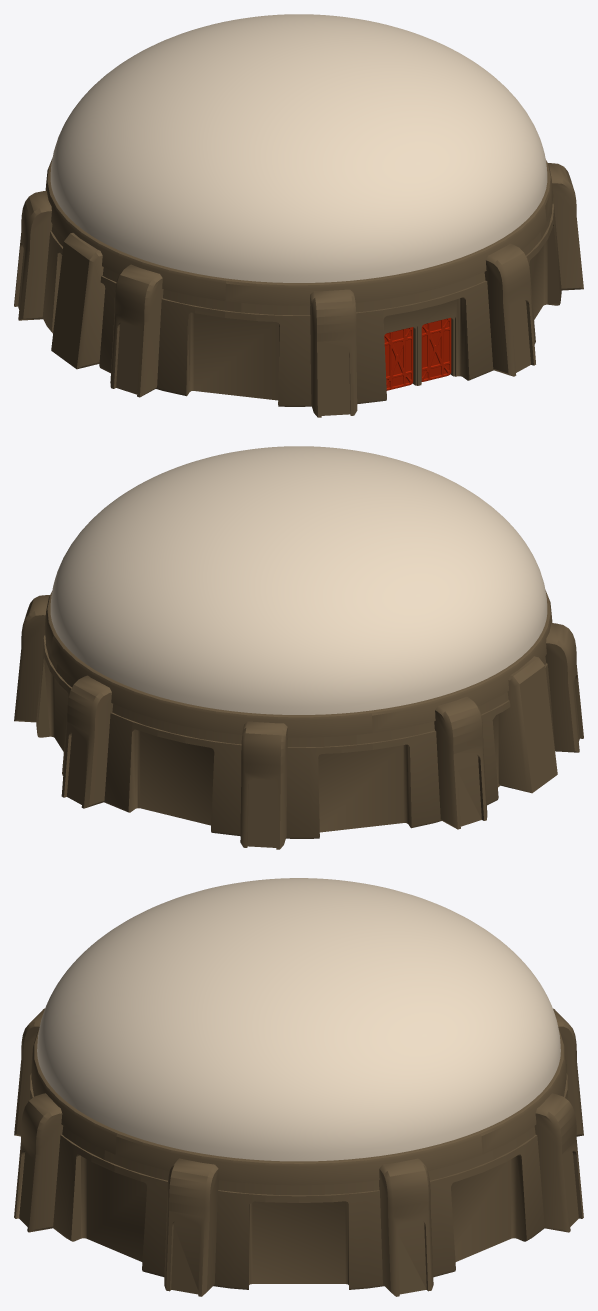
The model's file is Edificio3.FBX.
3 views of the same model, one above another, from view 1: azimuth 30°, elevation 25°; view 2: azimuth 150°, elevation 25°; view 3: azimuth 270°, elevation 25° (orthographic). The views are drawn at different scales.
Visible parts, largest first — view 1: Sphere06, ChamferCyl, Line64, Line66, Line08, Line68, Line78, Line70, Rectangle5, Rectangle3, Rectangle7, Rectangle0; view 2: Sphere06, ChamferCyl, Line08, Line76, Line78, Line74, Line64, Line72; view 3: Sphere06, ChamferCyl, Line70, Line72, Line74, Line68, Line76, Line66.
Boxes of the visible parts, <box> form: Sphere06: <box>50,14,547,282</box>; ChamferCyl: <box>42,158,561,406</box>; Line64: <box>110,264,163,397</box>; Line66: <box>310,289,357,417</box>; Line08: <box>51,233,105,369</box>; Line68: <box>484,243,535,376</box>; Line78: <box>14,191,52,320</box>; Line70: <box>548,163,583,290</box>; Rectangle5: <box>421,317,451,381</box>; Rectangle3: <box>384,327,413,390</box>; Rectangle7: <box>422,319,451,378</box>; Rectangle0: <box>384,328,412,387</box>; Sphere06: <box>50,446,547,714</box>; ChamferCyl: <box>36,590,555,838</box>; Line08: <box>498,656,557,793</box>; Line76: <box>240,721,287,849</box>; Line78: <box>434,696,487,829</box>; Line74: <box>61,675,112,808</box>; Line64: <box>545,623,583,752</box>; Line72: <box>14,595,49,722</box>; Sphere06: <box>37,878,560,1161</box>; ChamferCyl: <box>30,1030,567,1289</box>; Line70: <box>164,1158,218,1296</box>; Line72: <box>379,1158,433,1296</box>; Line74: <box>534,1093,583,1232</box>; Line68: <box>14,1093,63,1232</box>; Line76: <box>553,1008,583,1136</box>; Line66: <box>14,1008,44,1136</box>.
Size of what is drawn, in the model's own units: 3513 by 1734 by 3466.
